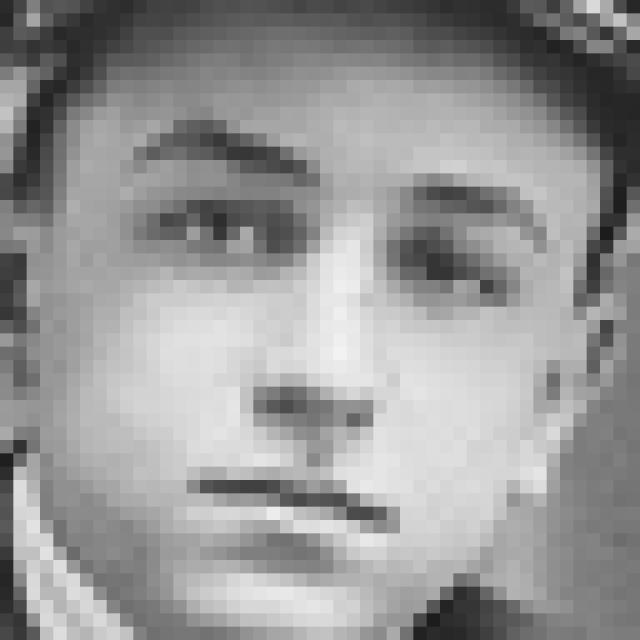neutral: (114, 105, 553, 581)
